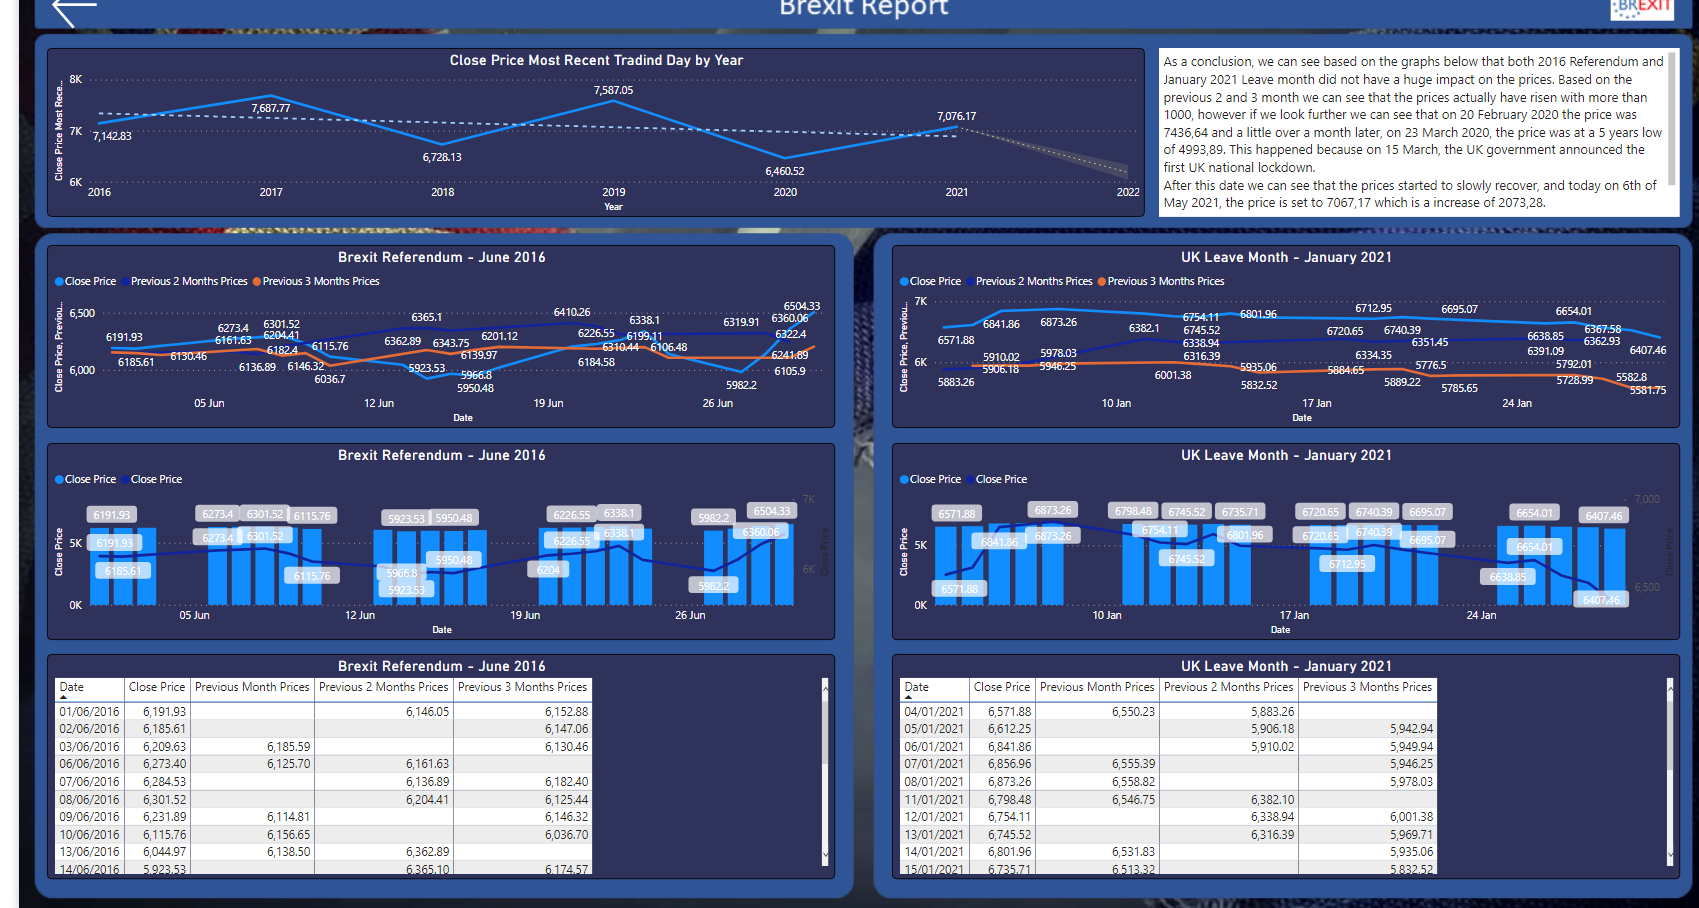

This screenshot's page, from the dashboard's own definition file:
{"tool":"powerbi","page":{"name":"Brexit Analysis","canvas":[1920,1080],"ordinal":2},"visuals":[{"type":"lineClusteredColumnComboChart","title":"Brexit Referendum - June 2016","fields":{"Category":["FTSE100.Date"],"Y":["Sum(FTSE100.Close Price)"],"Y2":["Sum(FTSE100.Close Price)"]},"box":[32,544,896,224],"z":0},{"type":"lineClusteredColumnComboChart","title":"UK Leave Month - January 2021","fields":{"Category":["FTSE100.Date"],"Y":["Sum(FTSE100.Close Price)"],"Y2":["Sum(FTSE100.Close Price)"]},"box":[992,544,896,224],"z":1000},{"type":"lineChart","title":"Brexit Referendum - June 2016","fields":{"Category":["FTSE100.Date"],"Y":["Sum(FTSE100.Close Price)","Measure_Table.Previous 2 Months Prices","Measure_Table.Previous 3 Months Prices"]},"box":[32,320,896,208],"z":2000},{"type":"lineChart","title":"UK Leave Month - January 2021","fields":{"Category":["FTSE100.Date"],"Y":["Sum(FTSE100.Close Price)","Measure_Table.Previous 2 Months Prices","Measure_Table.Previous 3 Months Prices"]},"box":[992,320,896,208],"z":3000},{"type":"tableEx","title":"Brexit Referendum - June 2016","fields":{"Values":["FTSE100.Date","Sum(FTSE100.Close Price)","Measure_Table.PM Prices","Measure_Table.Previous 2 Months Prices","Measure_Table.Previous 3 Months Prices"]},"box":[32,784,896,256],"z":4000},{"type":"tableEx","title":"UK Leave Month - January 2021","fields":{"Values":["FTSE100.Date","Sum(FTSE100.Close Price)","Measure_Table.PM Prices","Measure_Table.Previous 2 Months Prices","Measure_Table.Previous 3 Months Prices"]},"box":[992,784,896,256],"z":5000},{"type":"lineChart","fields":{"Category":["Calendar.Date.Variation.Date Hierarchy.Year","Calendar.Date.Variation.Date Hierarchy.Quarter","Calendar.Date.Variation.Date Hierarchy.Month","Calendar.Date.Variation.Date Hierarchy.Day"],"Y":["Measure_Table.Close Price Most Recent Tradind Day"]},"box":[32,96,1248,192],"z":6000},{"type":"textbox","box":[1296,96,592,192],"z":7000},{"type":"actionButton","box":[32,16,96,64],"z":8000}]}

Visuals, with their boxes on the page's 1920x1080 design canvas (x1, y1, x2, y2). These are canvas units, not pixel positions in the 1699x908 screenshot, which may show the page scaled, cropped or inside an application window:
"Brexit Referendum - June 2016" lineClusteredColumnComboChart: box=[32, 544, 928, 768]
"UK Leave Month - January 2021" lineClusteredColumnComboChart: box=[992, 544, 1888, 768]
"Brexit Referendum - June 2016" lineChart: box=[32, 320, 928, 528]
"UK Leave Month - January 2021" lineChart: box=[992, 320, 1888, 528]
"Brexit Referendum - June 2016" tableEx: box=[32, 784, 928, 1040]
"UK Leave Month - January 2021" tableEx: box=[992, 784, 1888, 1040]
lineChart - Calendar.Date.Variation.Date Hierarchy.Year x Calendar.Date.Variation.Date Hierarchy.Quarter: box=[32, 96, 1280, 288]
textbox: box=[1296, 96, 1888, 288]
actionButton: box=[32, 16, 128, 80]
